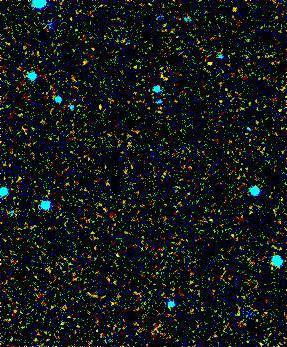star: (198, 48, 228, 78)
